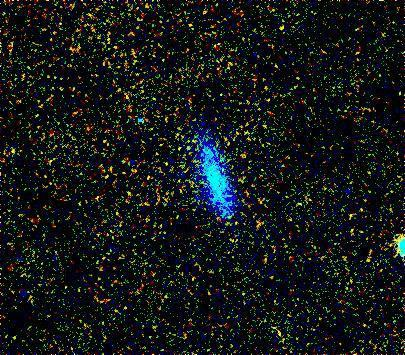star: (227, 137, 257, 167)
